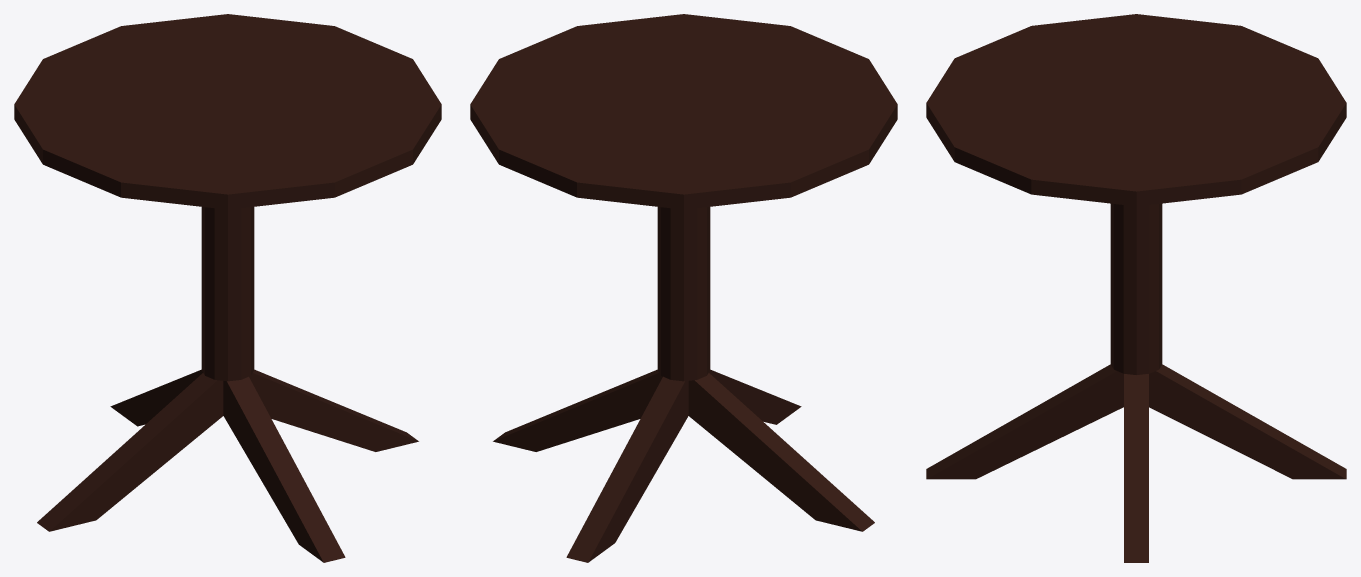
3 views of the same model, side by side, from view 1: azimuth 30°, elevation 25°; view 2: azimuth 150°, elevation 25°; view 3: azimuth 270°, elevation 25° (orthographic).
Visible parts, largest first — view 1: Node; view 2: Node; view 3: Node.
Part boxes in pixels (<box>): Node: <box>14,14,441,562</box>; Node: <box>470,14,897,562</box>; Node: <box>926,14,1346,562</box>.
Bounding box in the file's own units: 1.02 × 0.995 × 1.02.
